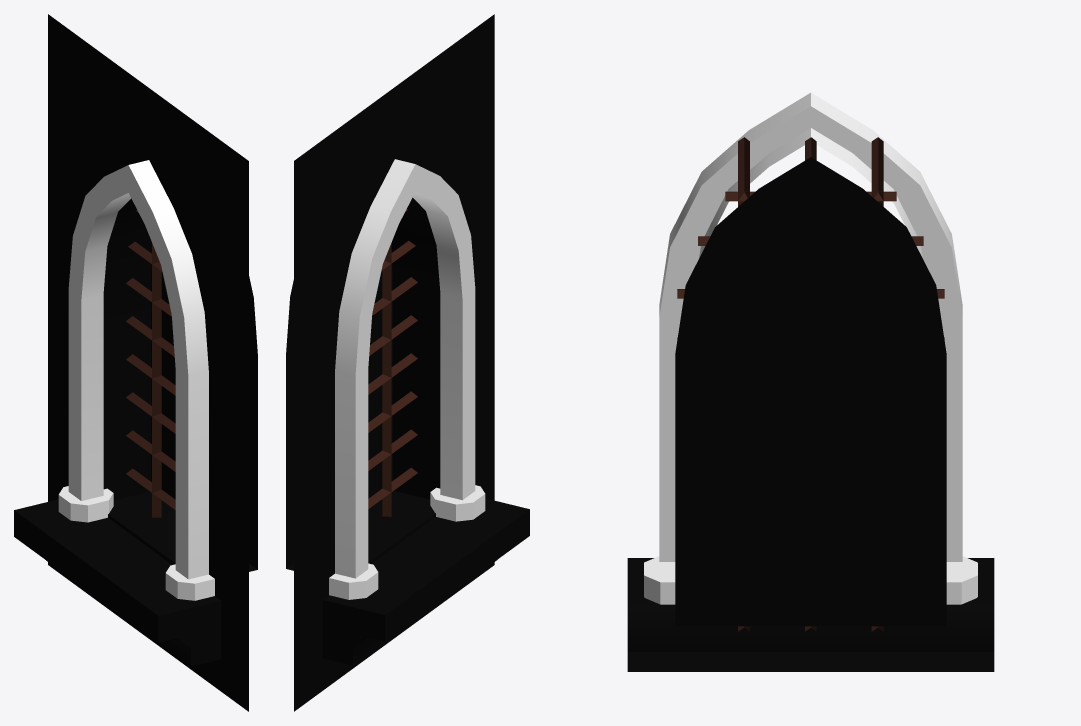
File: standard_window_14.FBX
3 views of the same model, side by side, from view 1: azimuth 30°, elevation 25°; view 2: azimuth 150°, elevation 25°; view 3: azimuth 270°, elevation 25° (orthographic). The views are drawn at different scales.
Parts seen in each view (by area): view 1: standard_window_14; view 2: standard_window_14; view 3: standard_window_14.
Boxes of the visible parts, box(x1,y1,x2,y2) form: standard_window_14: box(14, 14, 257, 711); standard_window_14: box(286, 14, 529, 711); standard_window_14: box(627, 92, 994, 671).
Size of the model in its own units: 63.96 by 285 by 189.
